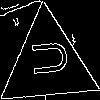U: (22, 38, 68, 79)
